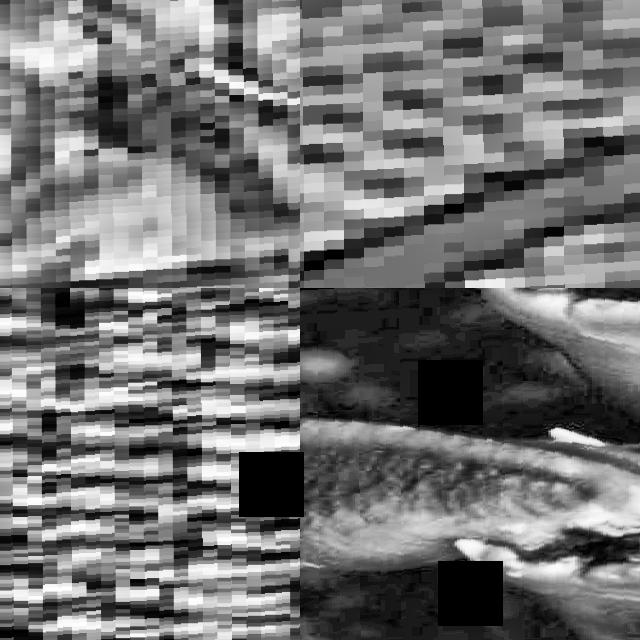crab: (300, 288, 640, 640), (0, 0, 300, 288)
fish: (0, 288, 300, 640), (300, 0, 640, 288)
